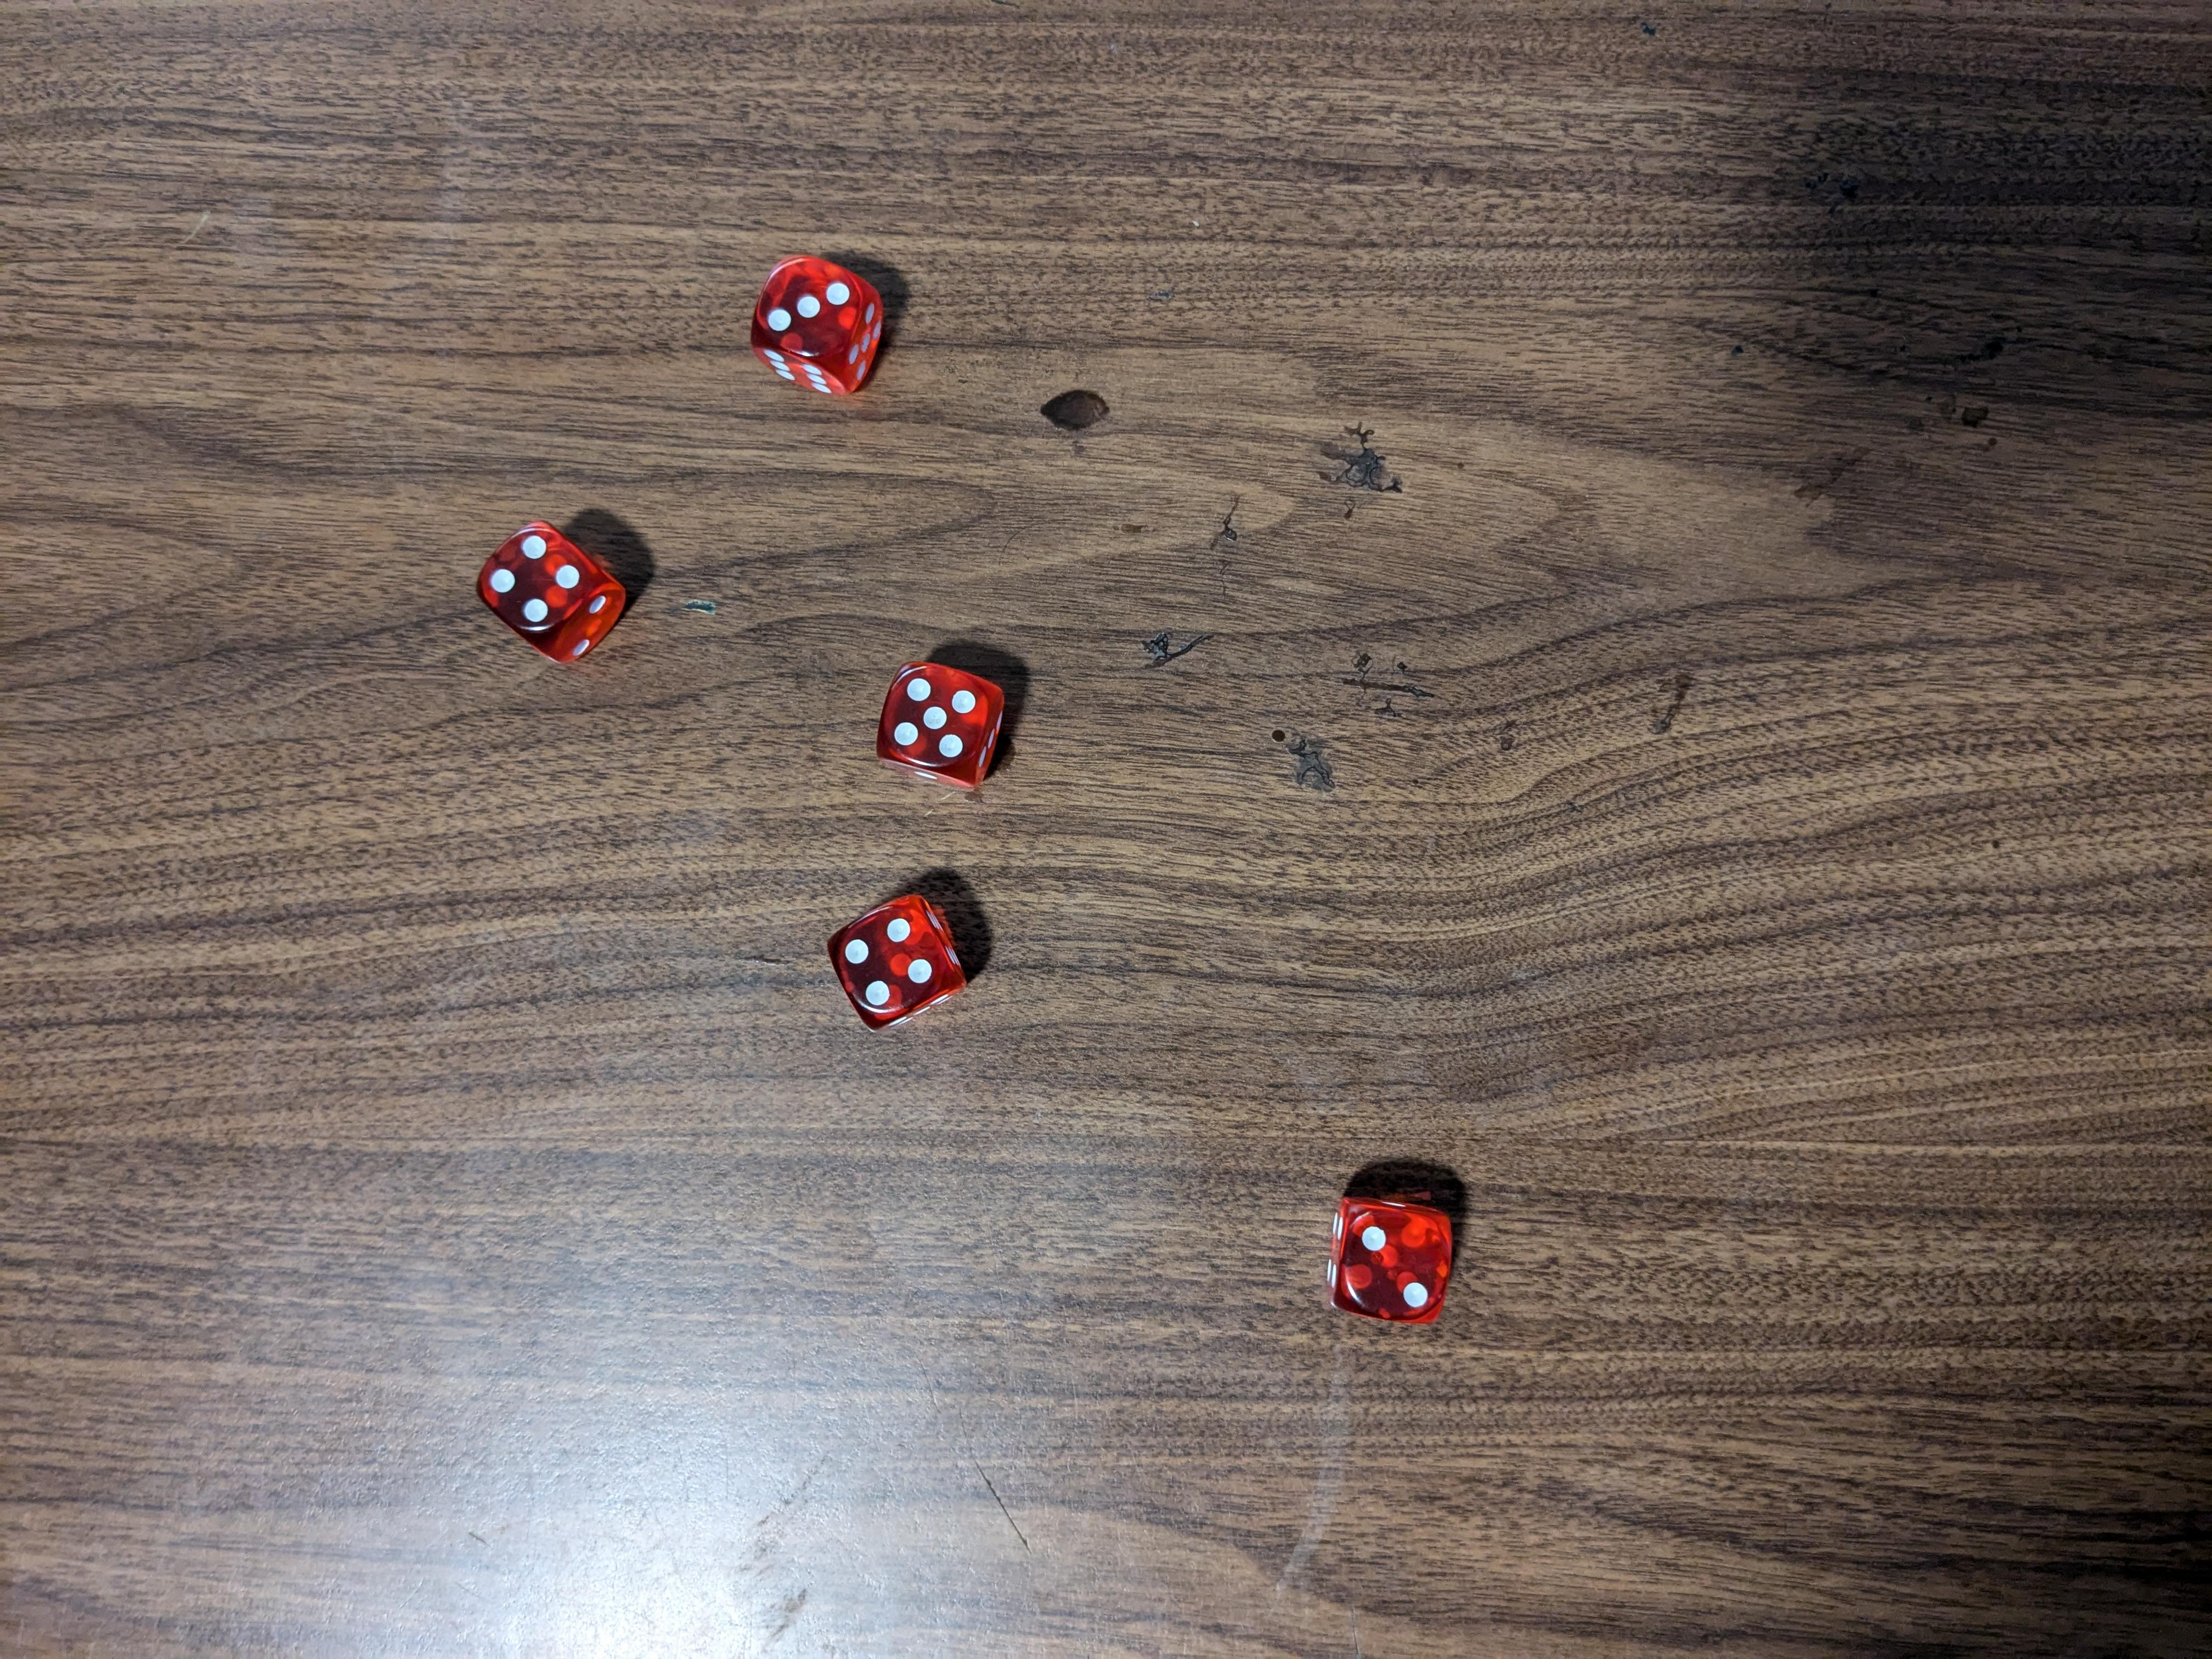five: (874, 653, 1021, 786)
four: (469, 509, 631, 667), (822, 890, 970, 1030)
three: (744, 249, 895, 397)
two: (1324, 1194, 1463, 1335)
